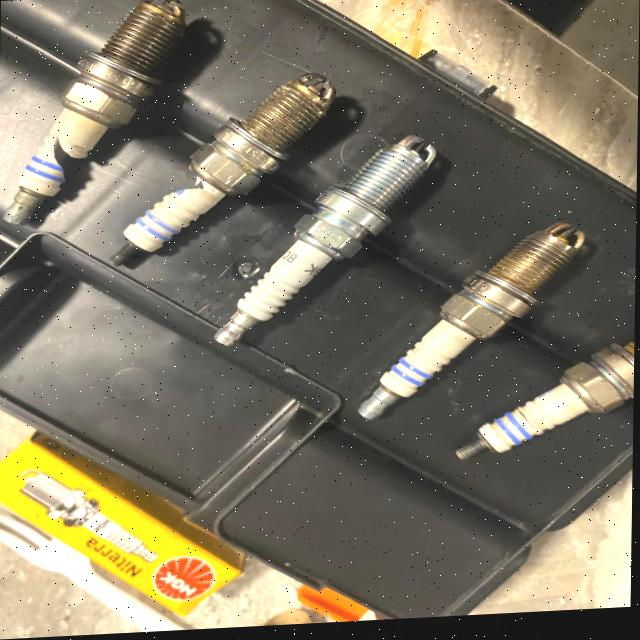damaged_spark-plug: (83, 58, 360, 293), (0, 0, 201, 235)
spark-plug: (199, 129, 464, 356), (335, 213, 607, 430), (435, 328, 636, 483)
